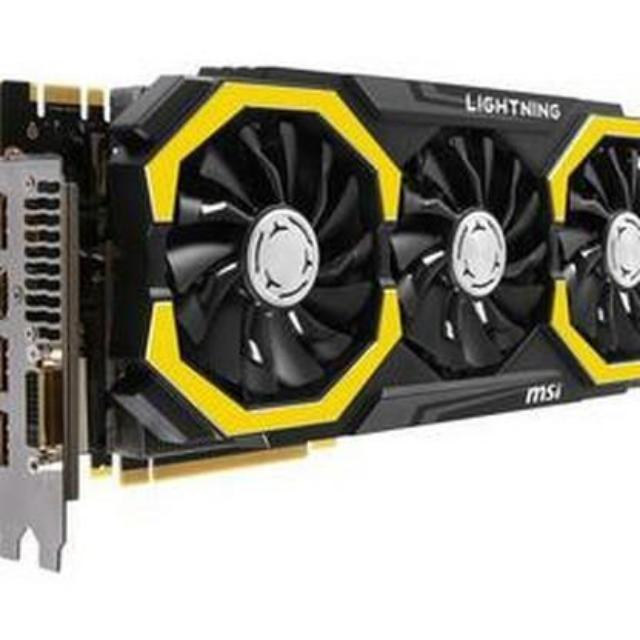GPU: (0, 54, 640, 506)
